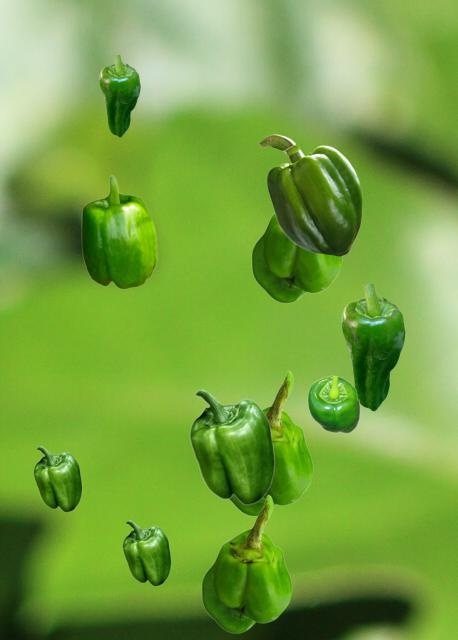bell_pepper: (258, 134, 361, 255), (201, 494, 291, 632), (229, 370, 312, 515), (189, 389, 274, 504), (81, 175, 156, 288), (251, 213, 341, 302), (341, 284, 404, 410), (99, 55, 139, 136), (33, 446, 81, 511), (122, 520, 170, 585), (307, 375, 359, 432)
